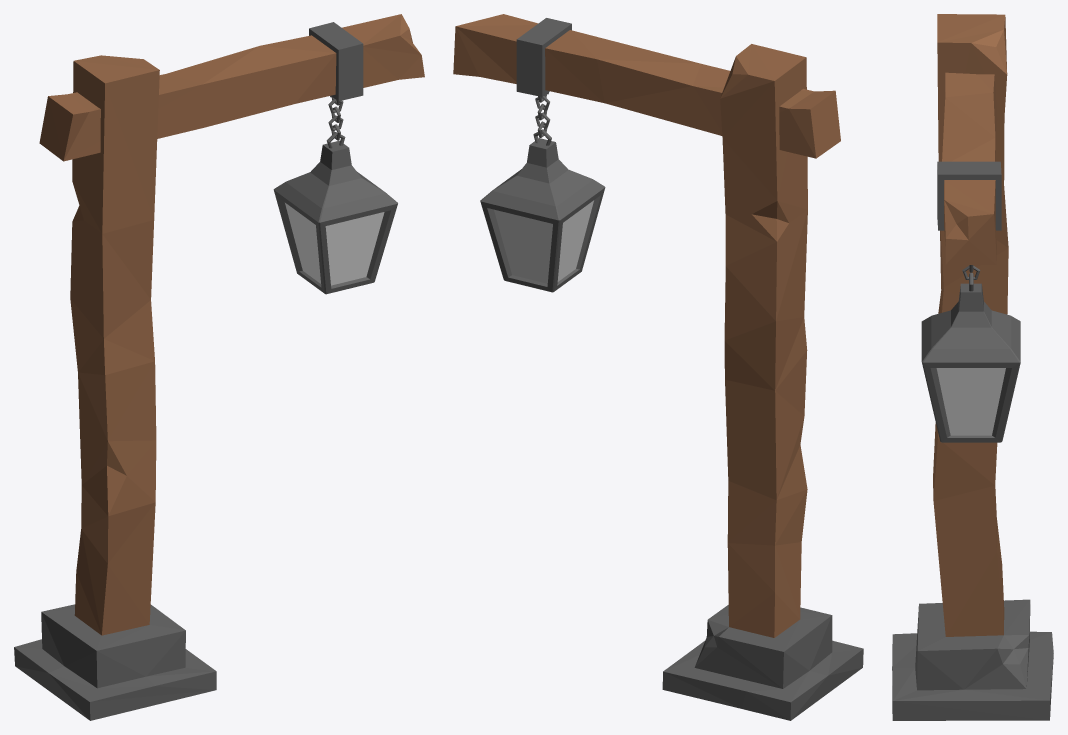
File: Ludeng.fbx
The picture shows the model from 3 angles, left to right: view 1: azimuth 30°, elevation 25°; view 2: azimuth 150°, elevation 25°; view 3: azimuth 270°, elevation 25°; orthographic projection. The views are drawn at different scales.
Parts seen in each view (by area): view 1: Lantern1; view 2: Lantern1; view 3: Lantern1.
Part boxes in pixels (x1,y1,x2,y2): Lantern1: (14,14,424,720); Lantern1: (453,14,863,720); Lantern1: (892,14,1053,720).
Bounding box in the file's own units: 2.47 × 4 × 0.8889.
